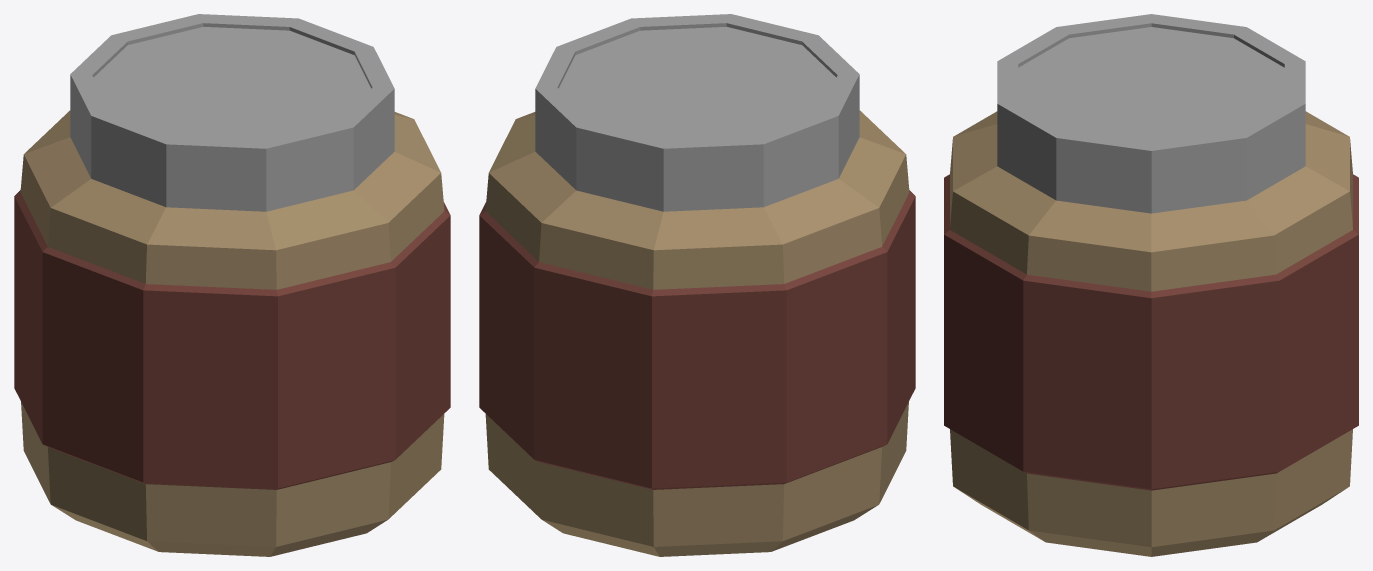
File: Jar_Large.glb
The picture shows the model from 3 angles, left to right: view 1: azimuth 30°, elevation 25°; view 2: azimuth 150°, elevation 25°; view 3: azimuth 270°, elevation 25°; orthographic projection.
Visible parts, largest first — view 1: PaleRed, LightYellow, White; view 2: PaleRed, LightYellow, White; view 3: PaleRed, LightYellow, White.
Part boxes in pixels (x1,y1,x2,y2): PaleRed: (14,190,450,489); LightYellow: (20,110,444,556); White: (70,14,394,211); PaleRed: (479,190,915,489); LightYellow: (485,110,909,556); White: (535,14,859,211); PaleRed: (944,174,1358,490); LightYellow: (950,111,1352,556); White: (997,14,1305,213).
Size of the model in its own units: 0.6332 by 0.6384 by 0.6022.
